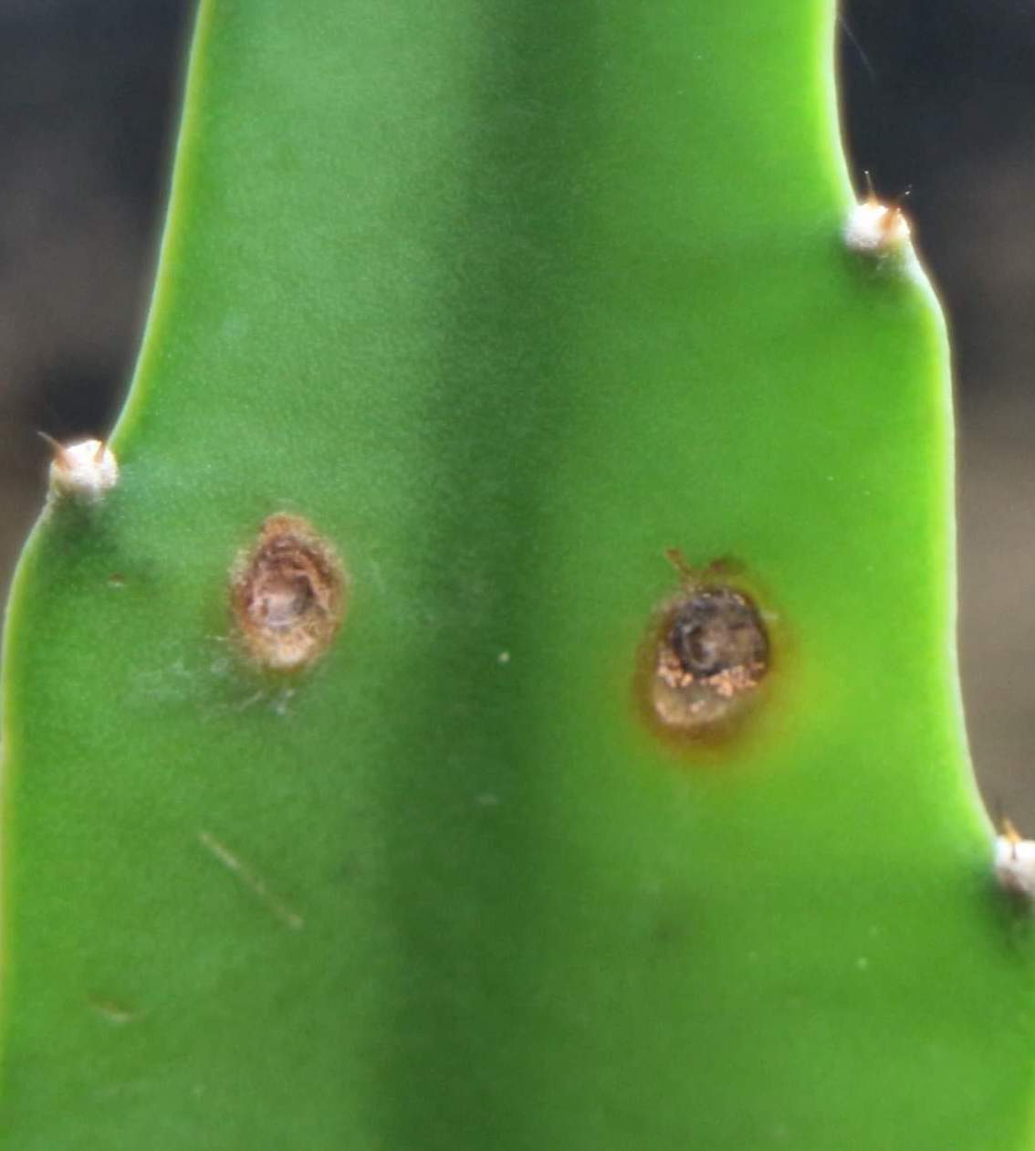stemcanker: (632, 554, 800, 756), (228, 509, 343, 681)
